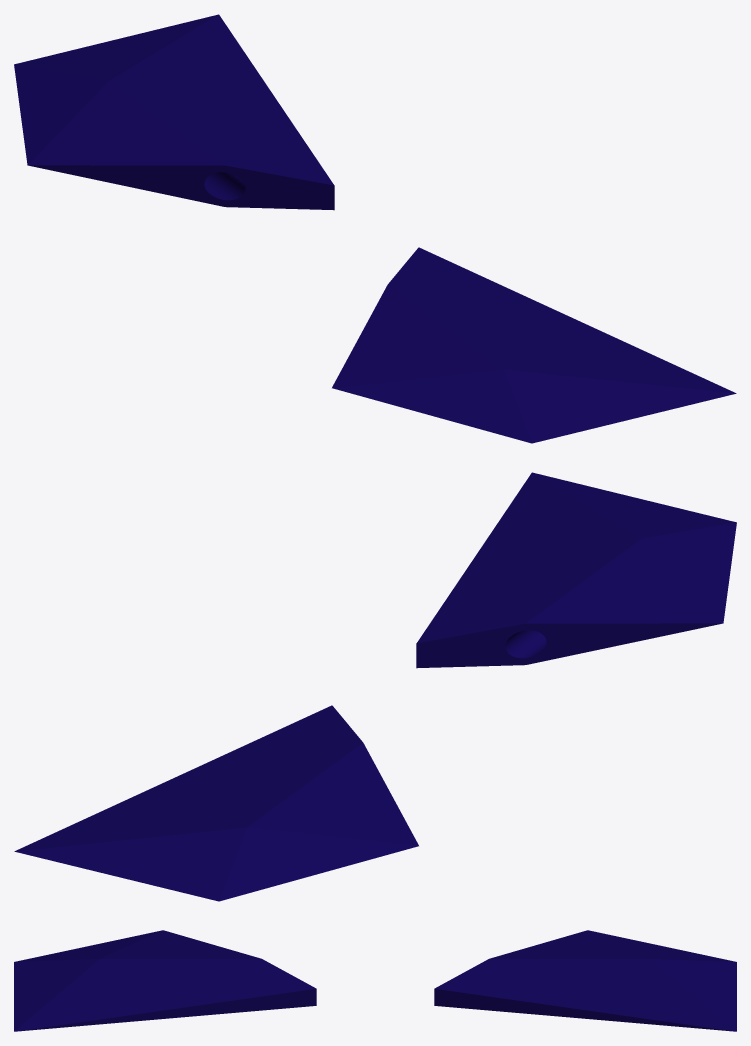
The model's file is fin_pair_h.000.fbx.
The picture shows the model from 3 angles, top to bottom: view 1: azimuth 30°, elevation 25°; view 2: azimuth 150°, elevation 25°; view 3: azimuth 270°, elevation 25°; orthographic projection. The views are drawn at different scales.
Parts seen in each view (by area): view 1: fin_pair_h.000; view 2: fin_pair_h.000; view 3: fin_pair_h.000.
Boxes of the visible parts, x1,y1,x2,y2 form: fin_pair_h.000: (14,14,736,443); fin_pair_h.000: (14,472,736,901); fin_pair_h.000: (14,930,736,1031).
Size of the model in its own units: 23.3 by 70.06 by 3.1.
